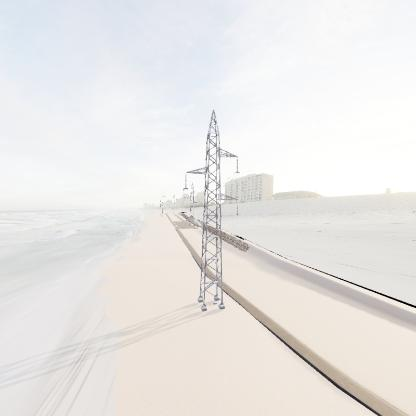tower: (178, 105, 244, 314)
